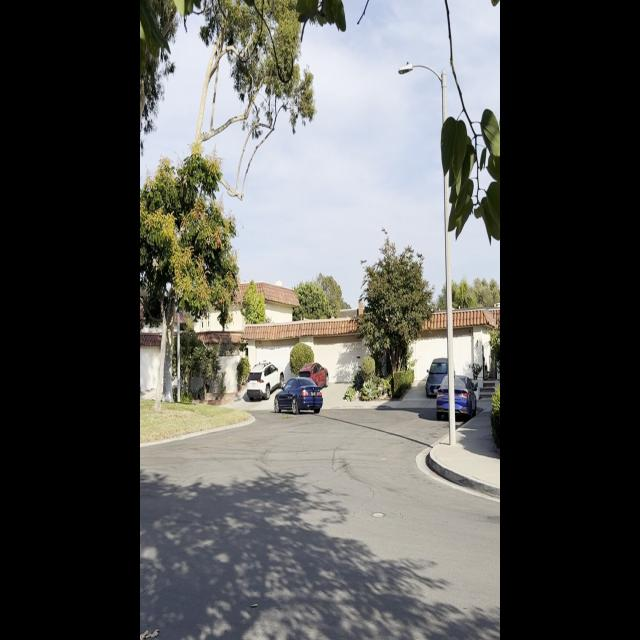Carbeetle: (272, 371, 324, 420)
Civilian: (432, 369, 479, 426), (246, 356, 286, 401), (425, 347, 456, 399), (294, 357, 331, 399)
